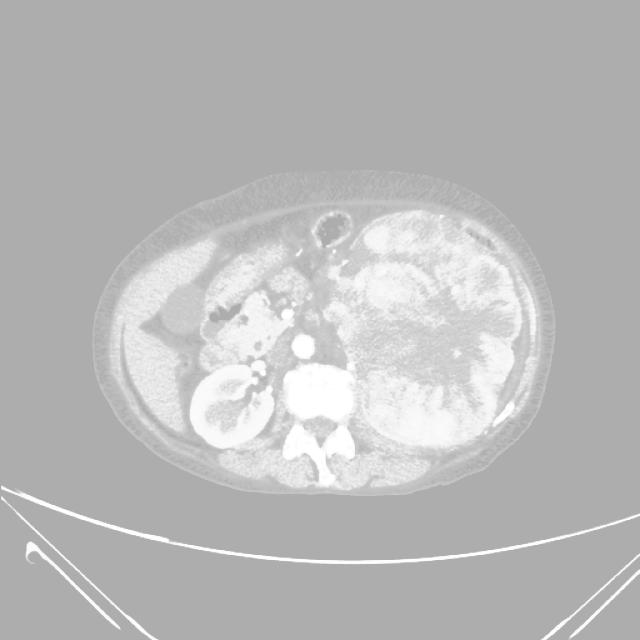TUMOR: (155, 223, 374, 443)
